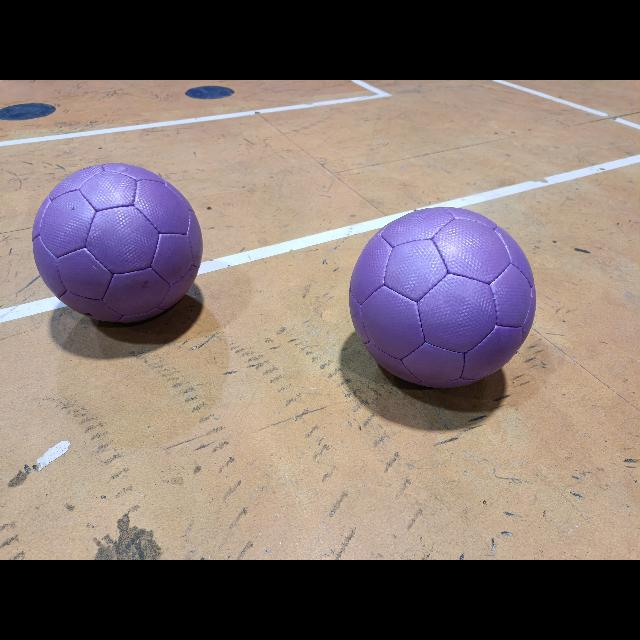P: (350, 207, 536, 387), (32, 164, 202, 322)
